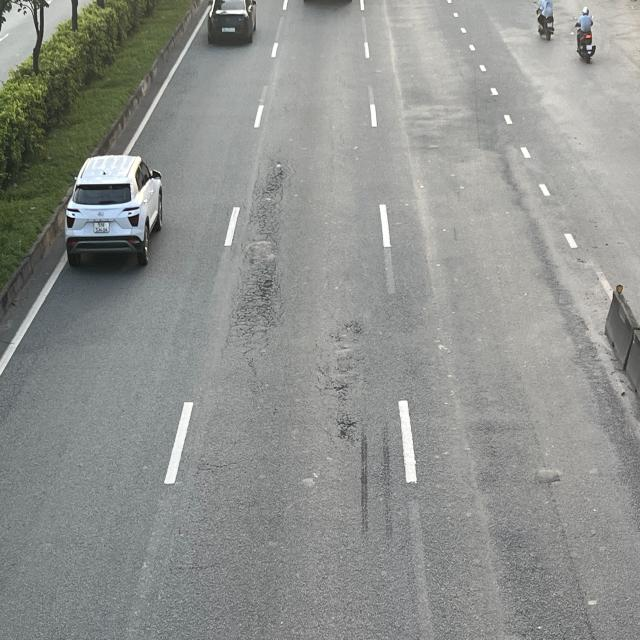car: (68, 156, 166, 267), (205, 0, 256, 43)
